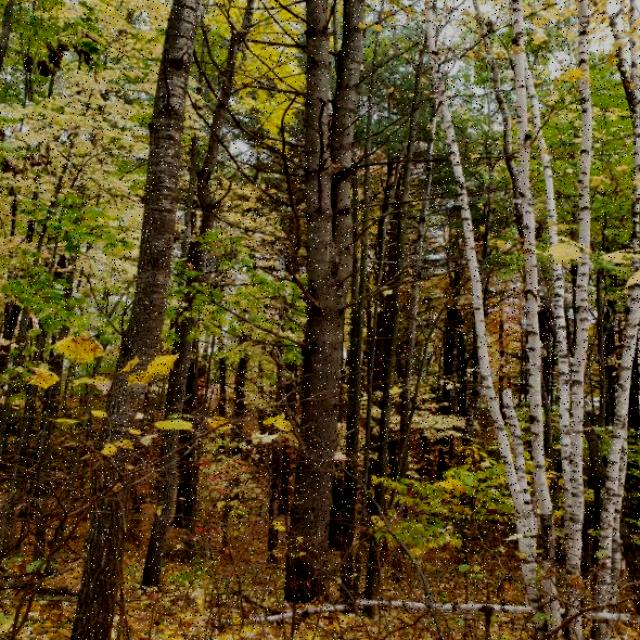fallen_object: (197, 563, 640, 640)
